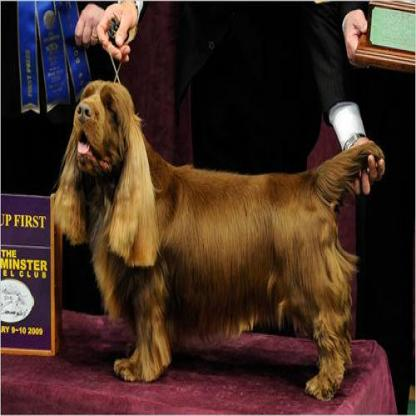Sussex_spaniel: (53, 75, 385, 396)
